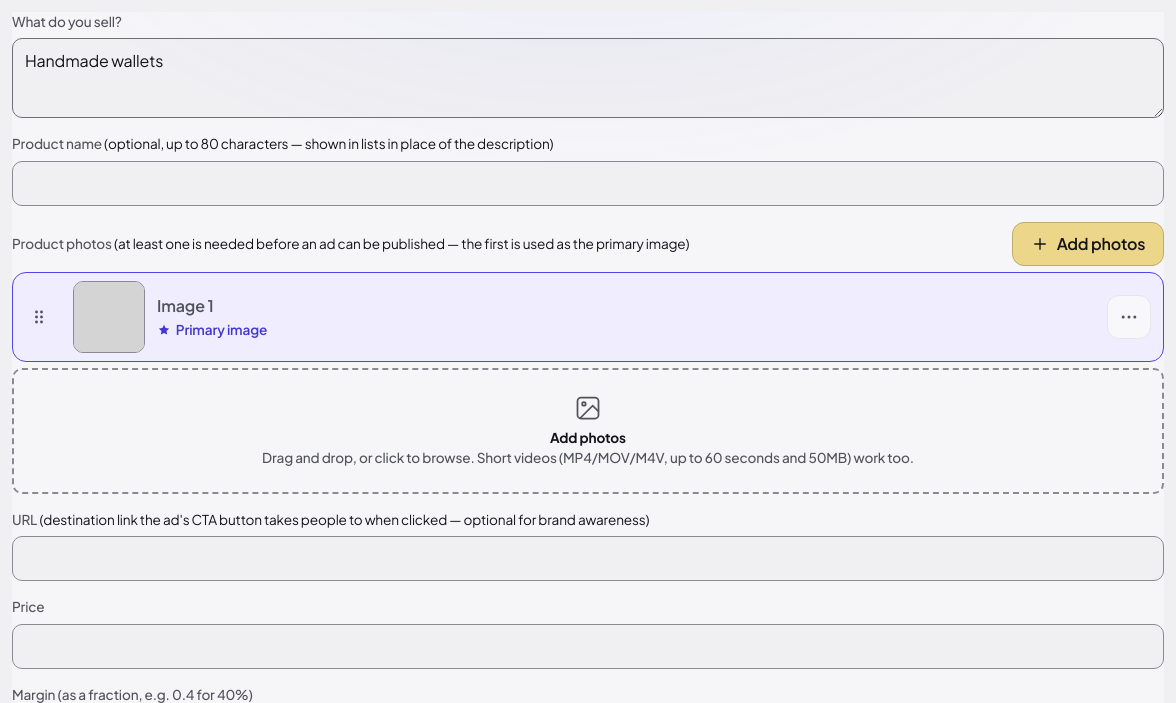
Test: ProductForm — edit mode live photo management › removes an existing photo
Click the button named "More actions for Image 1" at (1129, 317), box [1107,295,1151,339]
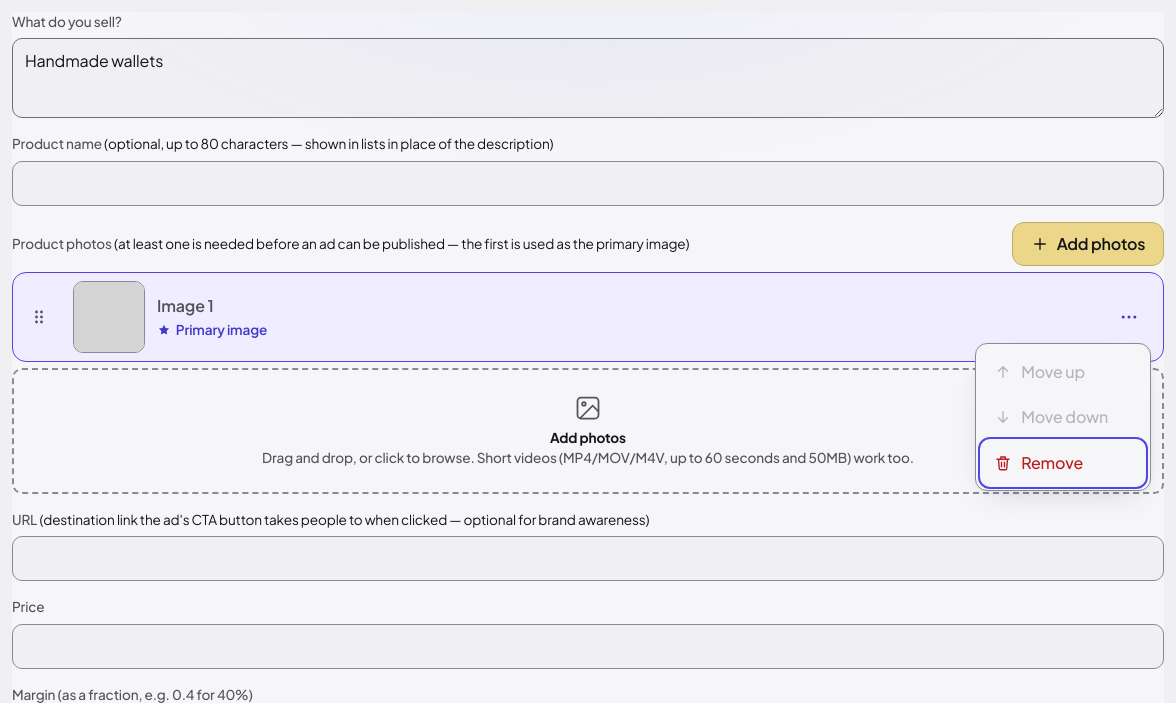
Click the menu item "Remove" at (1063, 463), box [982,441,1144,485]
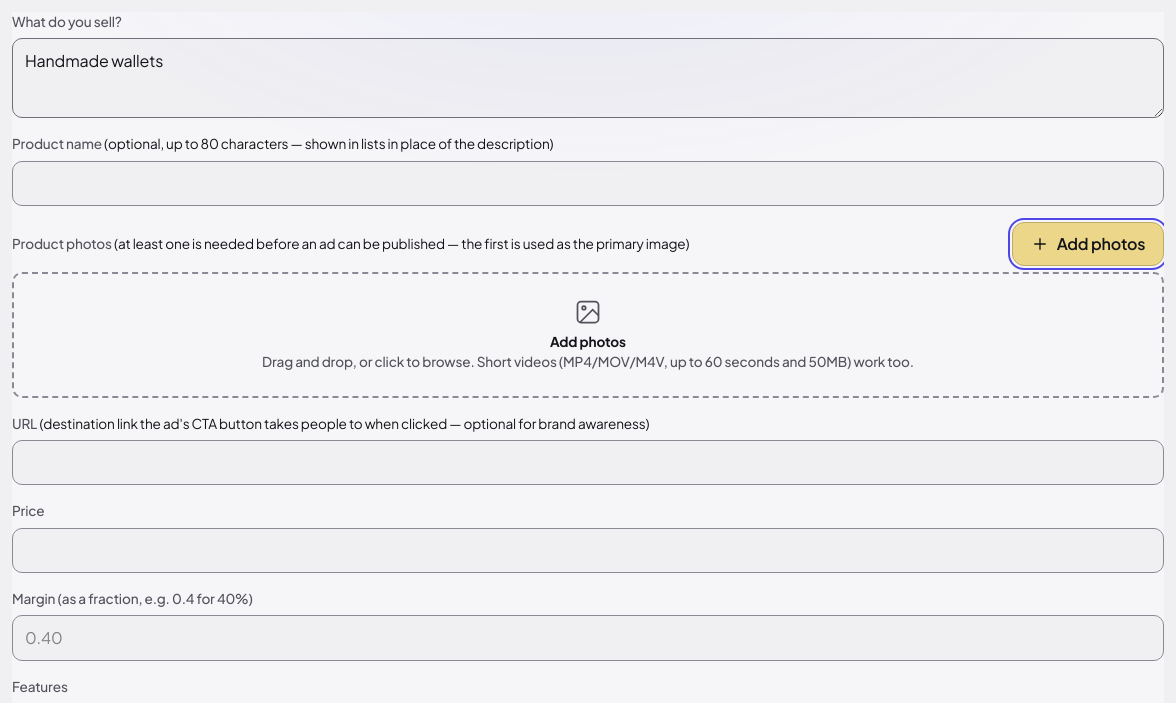
Result: the picture is gone
